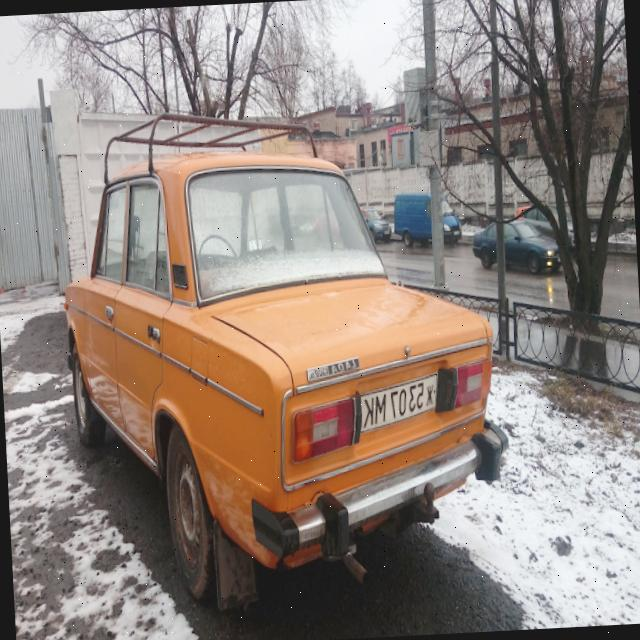number-plates: (356, 370, 442, 440)
